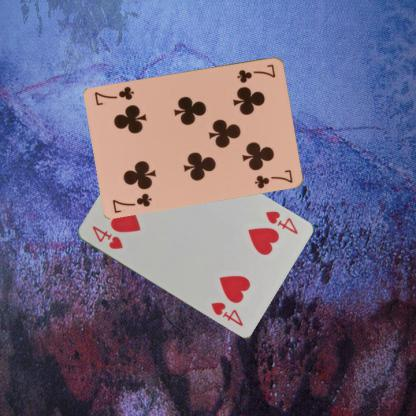4h: (262, 208, 299, 236), (89, 223, 124, 251)
7c: (110, 190, 154, 214), (234, 61, 276, 84)
